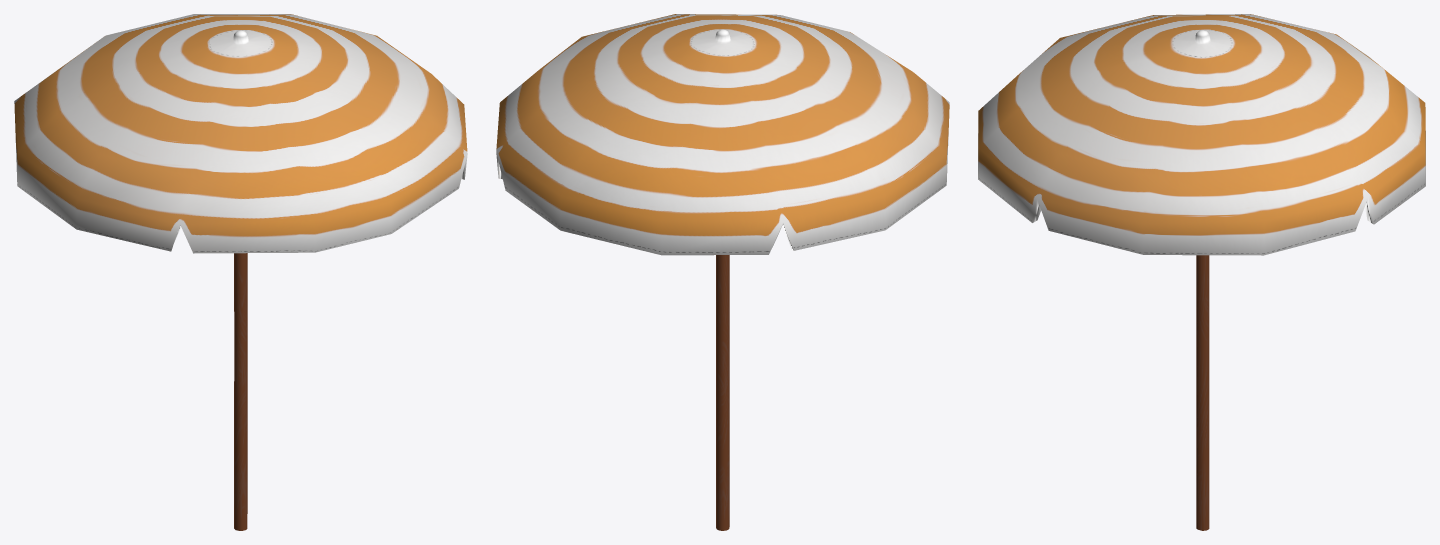
File: beach_umbrella_asset.glb
3 renders of one model, left to right at view 1: azimuth 30°, elevation 25°; view 2: azimuth 150°, elevation 25°; view 3: azimuth 270°, elevation 25°, orthographic.
Parts seen in each view (by area): view 1: Object_2; view 2: Object_2; view 3: Object_2.
Boxes of the visible parts, <box> form: Object_2: <box>14,14,467,530</box>; Object_2: <box>496,14,949,530</box>; Object_2: <box>978,14,1425,530</box>.
Bounding box in the file's own units: 143 × 176 × 143.
Materials: 1 (1 with a texture image).
